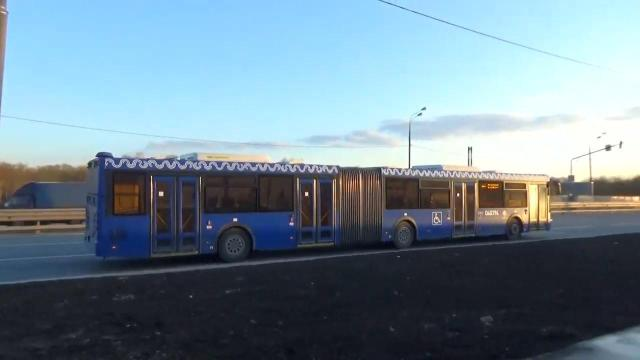bus: (56, 153, 566, 262)
